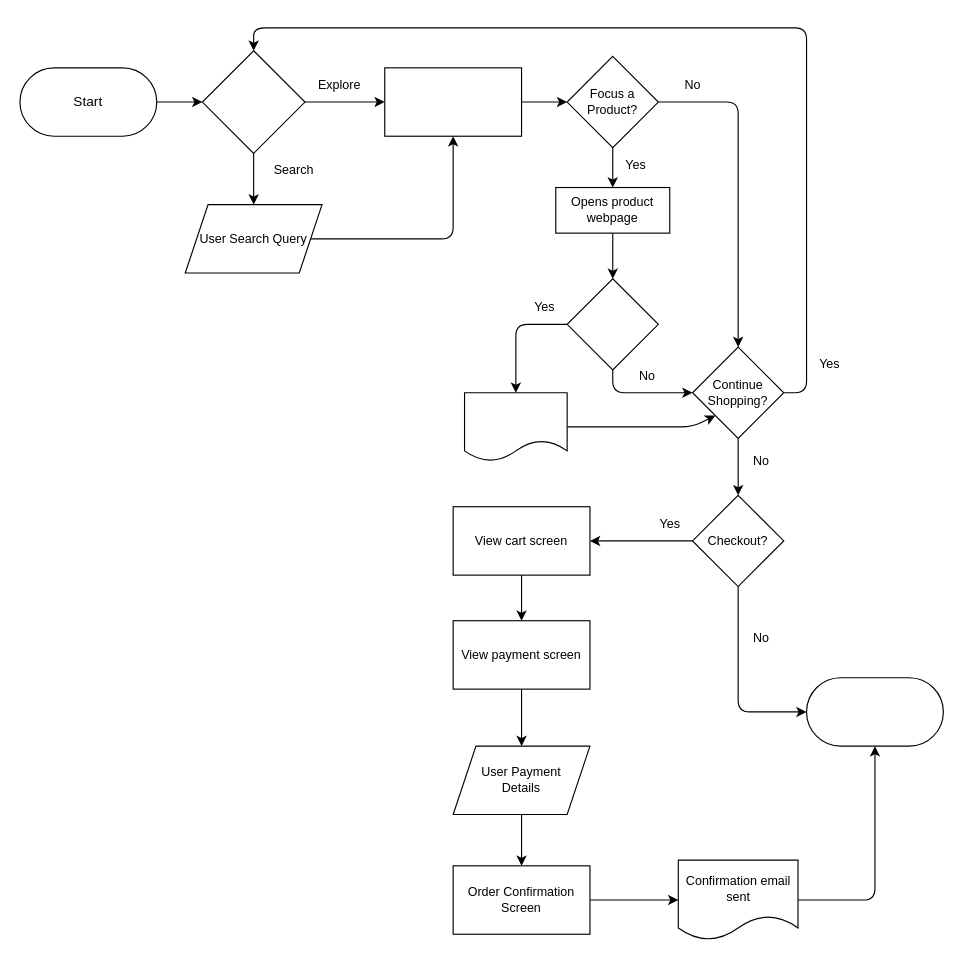
Some shapes in this 963 by 960 pixel diagram are drawn without their labels. The centre of each missing label's shape, as x and y in pixels:
Add to Cart?: (x=612, y=324)
Added to cart: (x=515, y=426)
Leave site: (x=874, y=711)
Search or explore products: (x=253, y=101)
User views products: (x=453, y=101)
